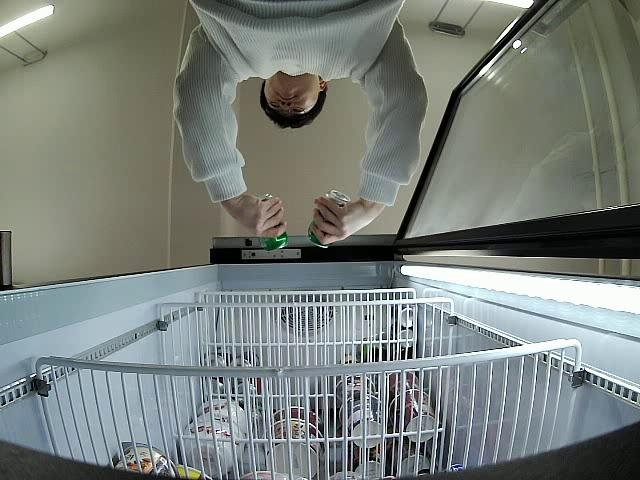00_hand: (310, 196, 366, 245), (239, 197, 287, 237)
12_chilsungCider: (306, 191, 351, 250), (257, 193, 289, 253)
